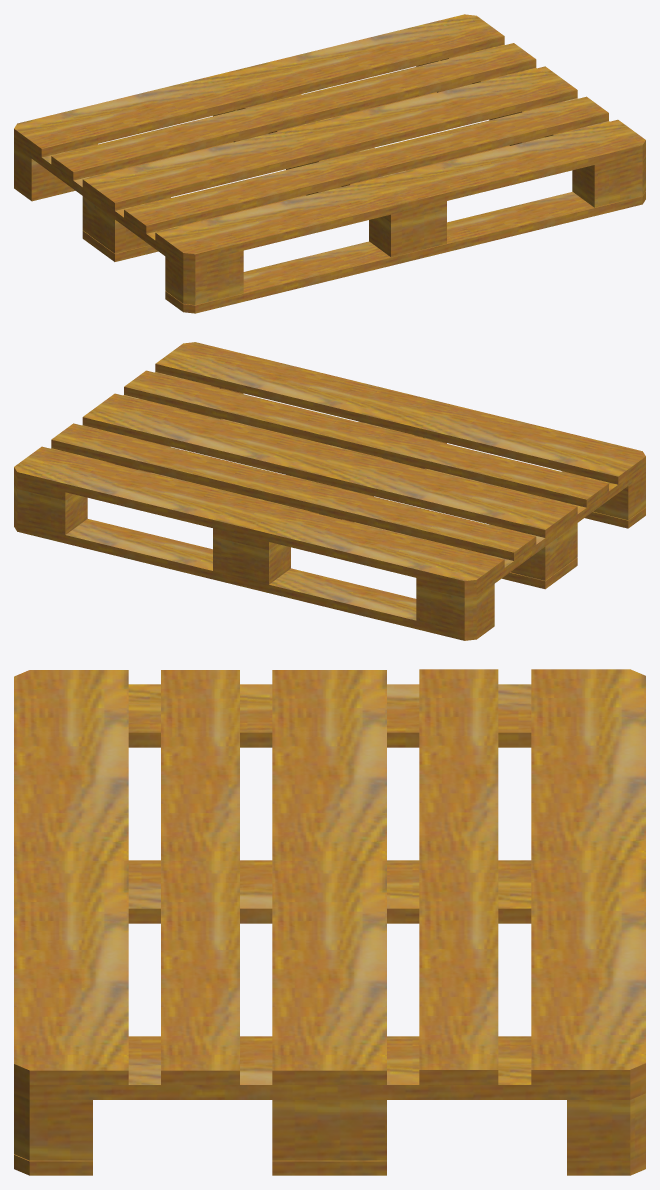
Rendered from europallet.dae.
The picture shows the model from 3 angles, top to bottom: view 1: azimuth 30°, elevation 25°; view 2: azimuth 150°, elevation 25°; view 3: azimuth 270°, elevation 25°; orthographic projection. The views are drawn at different scales.
Visible parts, largest first — view 1: group_0, group_2, group_4, group_1, group_3, group_19, group_13, group_9, group_6, group_11, group_8, group_12 (+4 smaller); view 2: group_0, group_2, group_4, group_1, group_3, group_17, group_12, group_16, group_6, group_10, group_8, group_13 (+4 smaller); view 3: group_0, group_2, group_4, group_1, group_3, group_5, group_6, group_7, group_15, group_10, group_11, group_18 (+2 smaller).
Part boxes in pixels (box(x1,y1,x2,y2)): group_0: box(14, 14, 504, 157); group_2: box(82, 66, 577, 210); group_4: box(155, 119, 645, 262); group_1: box(51, 43, 536, 180); group_3: box(124, 96, 608, 233); group_19: box(165, 191, 645, 313); group_13: box(165, 256, 243, 304); group_9: box(369, 209, 446, 257); group_6: box(14, 137, 243, 270); group_11: box(572, 157, 645, 207); group_8: box(82, 196, 149, 253); group_12: box(14, 146, 66, 192); group_0: box(14, 446, 504, 589); group_2: box(82, 393, 577, 537); group_4: box(155, 342, 645, 484); group_1: box(51, 423, 536, 560); group_3: box(124, 370, 608, 507); group_17: box(14, 518, 494, 640); group_12: box(416, 584, 494, 632); group_16: box(213, 537, 290, 584); group_6: box(416, 464, 645, 597); group_10: box(14, 484, 87, 534); group_8: box(510, 523, 577, 580); group_13: box(593, 473, 645, 519); group_0: box(531, 669, 645, 1084); group_2: box(272, 670, 386, 1084); group_4: box(14, 670, 128, 1084); group_1: box(419, 669, 498, 1084); group_3: box(161, 670, 239, 1084); group_5: box(14, 1036, 645, 1099); group_6: box(128, 684, 531, 747); group_7: box(128, 860, 531, 923); group_15: box(272, 1100, 386, 1160); group_10: box(567, 1093, 645, 1160); group_11: box(14, 1093, 92, 1160); group_18: box(272, 1160, 386, 1175).
Bounding box in the file's own units: 47.24 × 31.5 × 5.83.
1 material, 1 textured.
